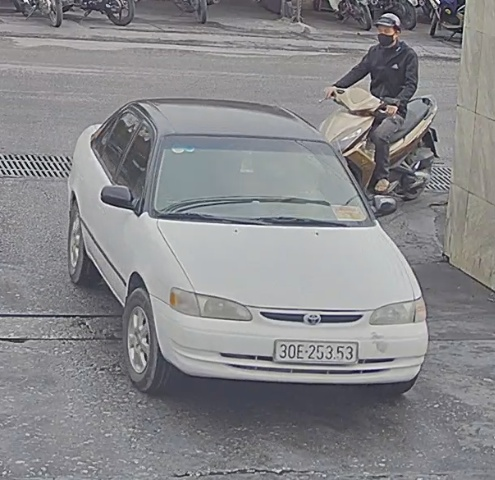vehicle plate: (272, 332, 361, 367)
